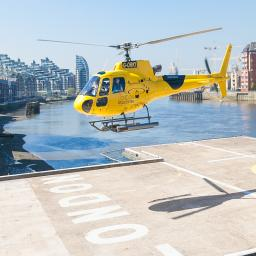helicopter: (37, 29, 233, 134)
